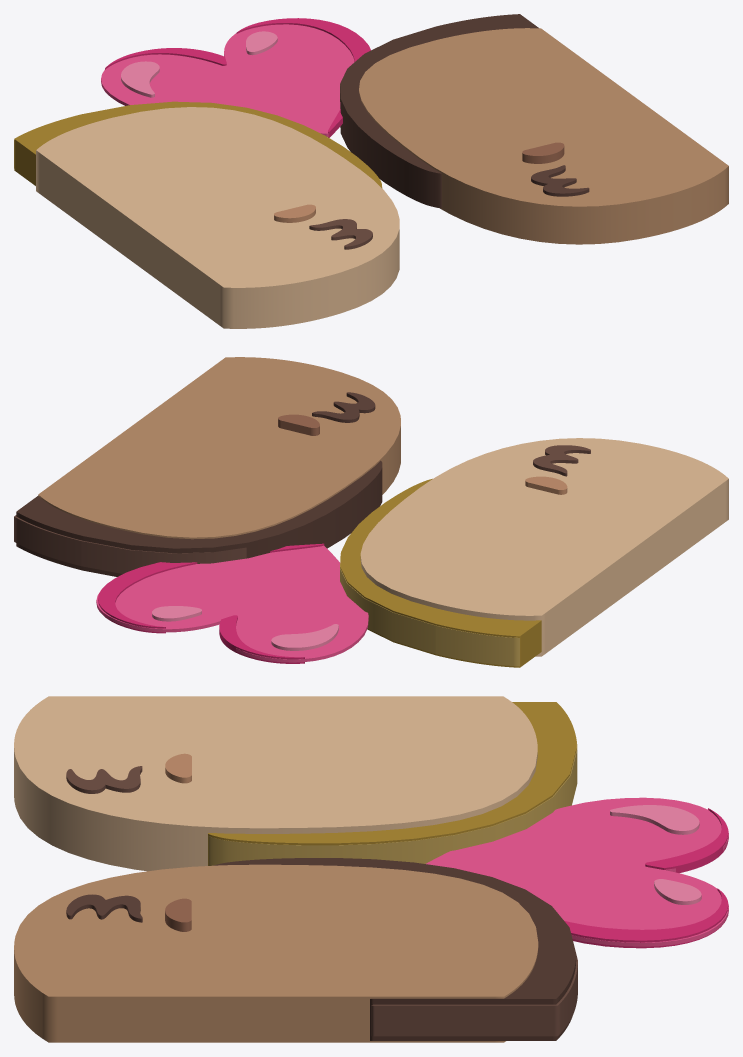
Rendered from emoji_u1f468_1f3fc_200d_2764_200d_1f48b_200d_1f468_1f3fd.glb.
3 views of the same model, one above another, from view 1: azimuth 30°, elevation 25°; view 2: azimuth 150°, elevation 25°; view 3: azimuth 270°, elevation 25° (orthographic). The views are drawn at different scales.
Visible parts, largest first — view 1: emoji_u1f468_1f3fc_200d_2764_200d_1f48b_200d_1f468_1f3fd; view 2: emoji_u1f468_1f3fc_200d_2764_200d_1f48b_200d_1f468_1f3fd; view 3: emoji_u1f468_1f3fc_200d_2764_200d_1f48b_200d_1f468_1f3fd.
Part boxes in pixels (x1,y1,x2,y2): emoji_u1f468_1f3fc_200d_2764_200d_1f48b_200d_1f468_1f3fd: [14, 14, 728, 328]; emoji_u1f468_1f3fc_200d_2764_200d_1f48b_200d_1f468_1f3fd: [14, 357, 728, 667]; emoji_u1f468_1f3fc_200d_2764_200d_1f48b_200d_1f468_1f3fd: [14, 696, 728, 1042].
Bounding box in the file's own units: 0.0336 × 0.0034 × 0.0339.
